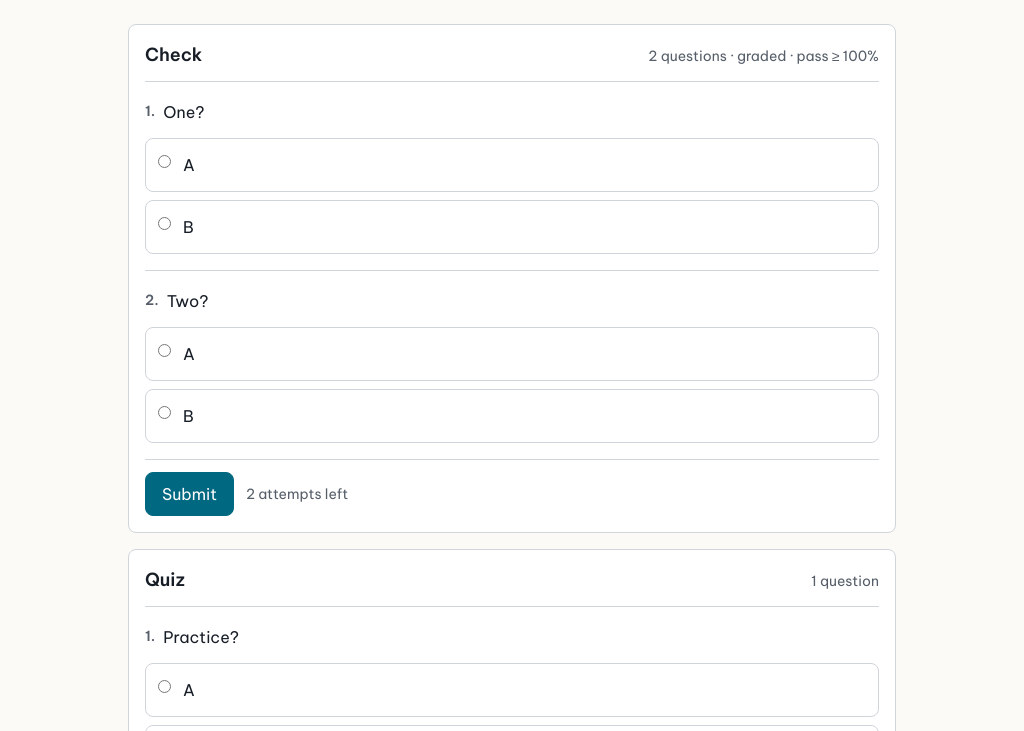
QuizRenderer › practice quiz: check per question
Step 1. Click the radio button labelled "A" below "Practice?" → (164, 686), box [158,680,171,693]
(page scrolled)
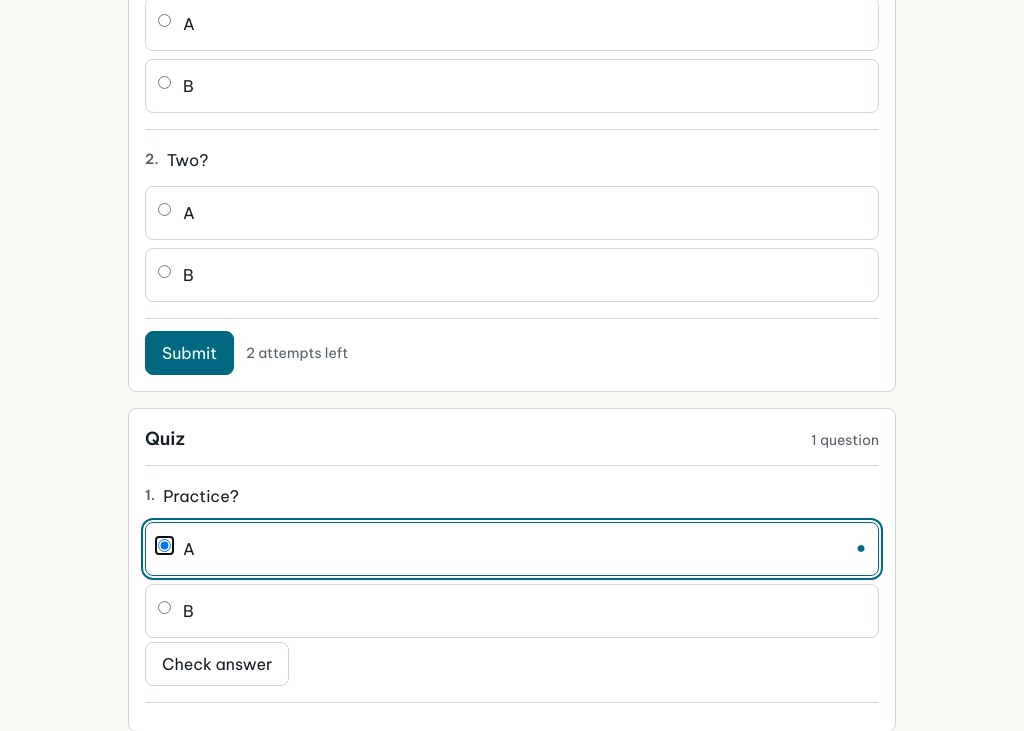
Step 2. Click the button "Check answer" → (217, 664), box [145,642,289,686]
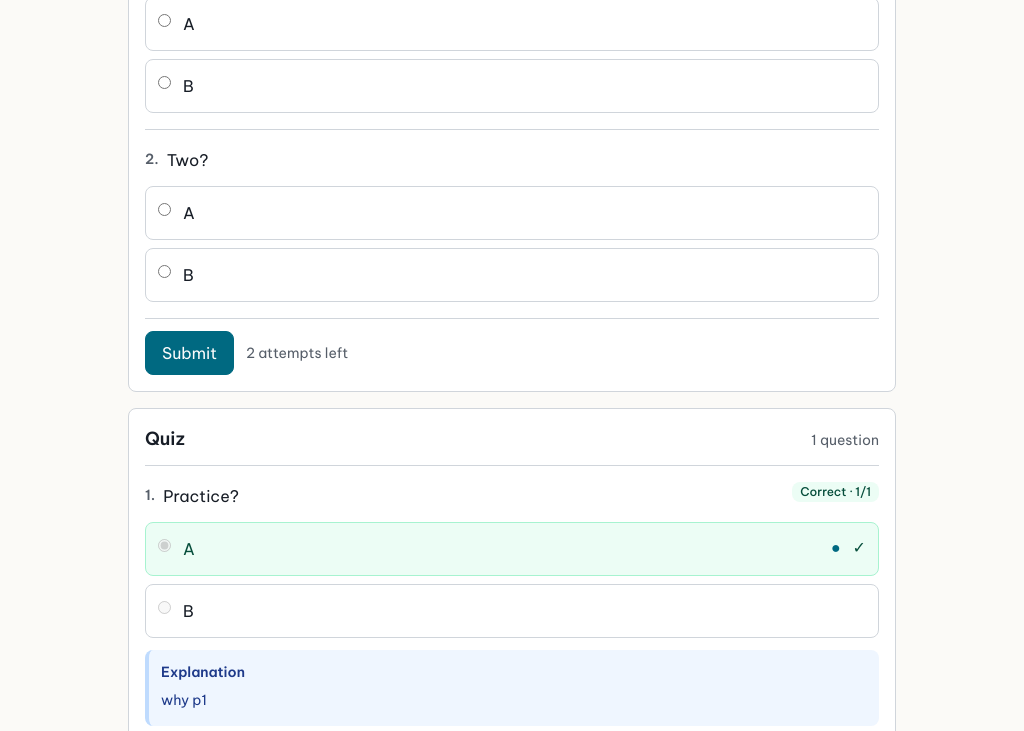
Expected: the text "Correct · 1/1" is shown, [792,482,879,502]
Expected: the text "why p1" is shown, [161,691,207,709]
